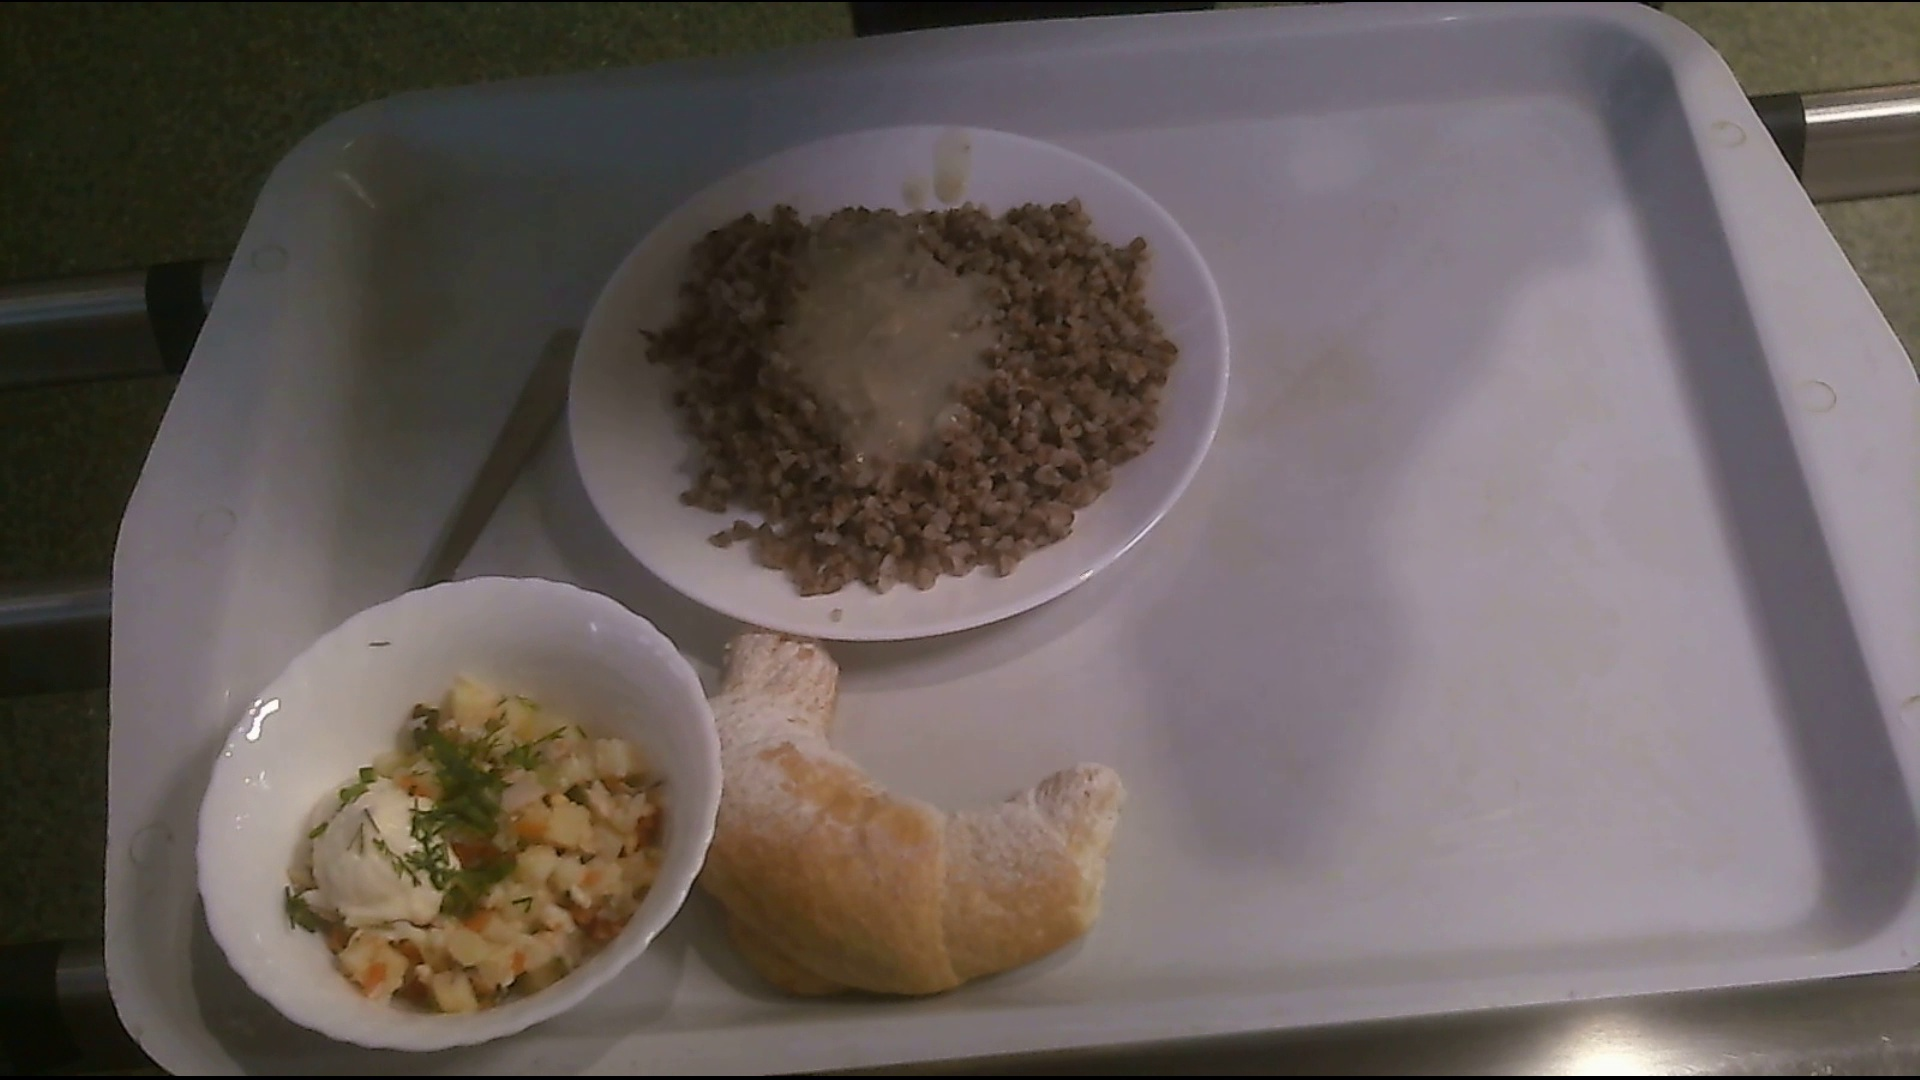bowl: (204, 567, 713, 1042)
other: (712, 632, 1124, 1000)
plate: (560, 124, 1233, 646)
